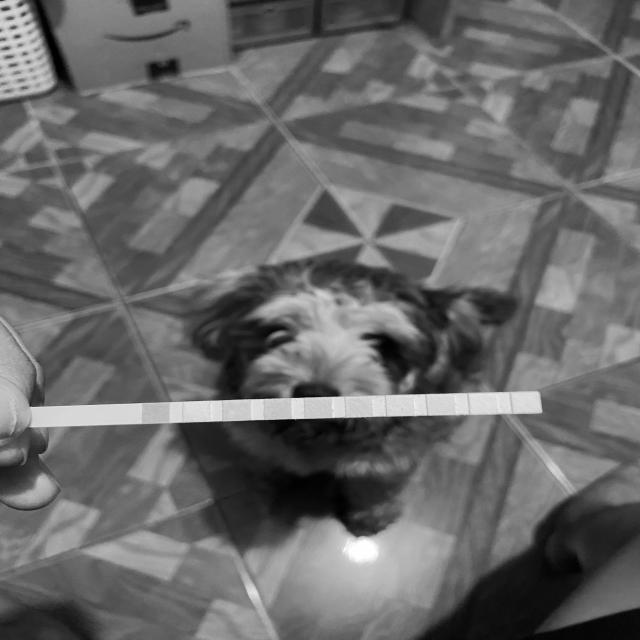Bilirubin: (183, 402, 210, 422)
Blood: (306, 398, 332, 418)
Glucose: (144, 403, 170, 422)
Ketone: (224, 401, 250, 420)
Leukocytes: (512, 392, 540, 413)
Nitrite: (470, 394, 496, 414)
Protein: (387, 396, 413, 416)
SpGravity: (264, 399, 290, 419)
Urobilinogen: (428, 395, 455, 415)
background: (0, 0, 640, 640)
pH: (346, 397, 372, 417)
strip: (35, 391, 543, 428)
